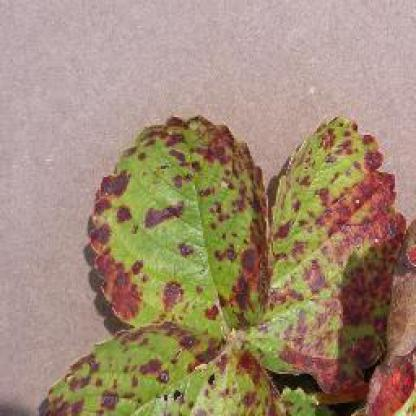leaf scorch: (34, 101, 414, 414)
